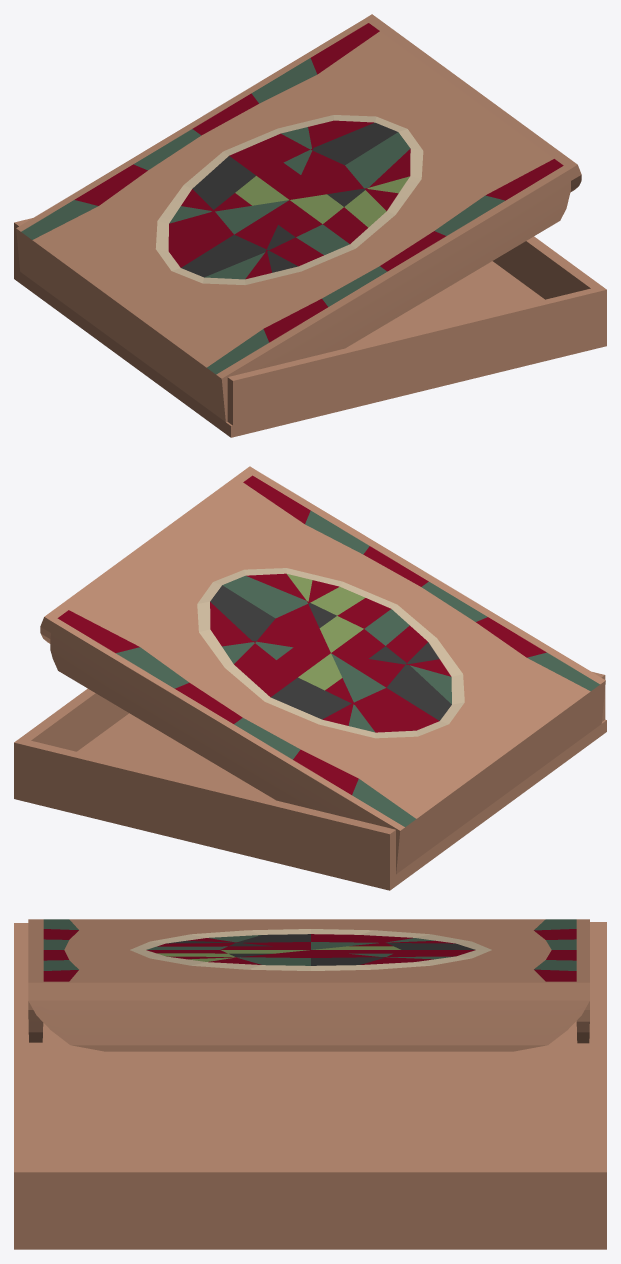
Rendered from pizzabox_4_partyassets.fbx.
3 renders of one model, top to bottom at view 1: azimuth 30°, elevation 25°; view 2: azimuth 150°, elevation 25°; view 3: azimuth 270°, elevation 25°, orthographic. The views are drawn at different scales.
Parts seen in each view (by area): view 1: pizzabox_4_partyassets; view 2: pizzabox_4_partyassets; view 3: pizzabox_4_partyassets.
Part boxes in pixels (x1,y1,x2,y2): pizzabox_4_partyassets: (14, 14, 606, 437); pizzabox_4_partyassets: (14, 466, 606, 890); pizzabox_4_partyassets: (14, 919, 606, 1249).
Size of the model in its own units: 46.52 by 21.47 by 46.01.
